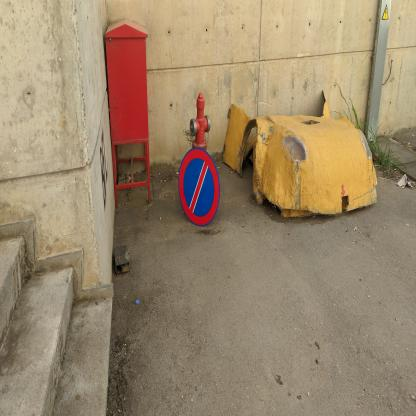No Waiting: (179, 147, 221, 227)
